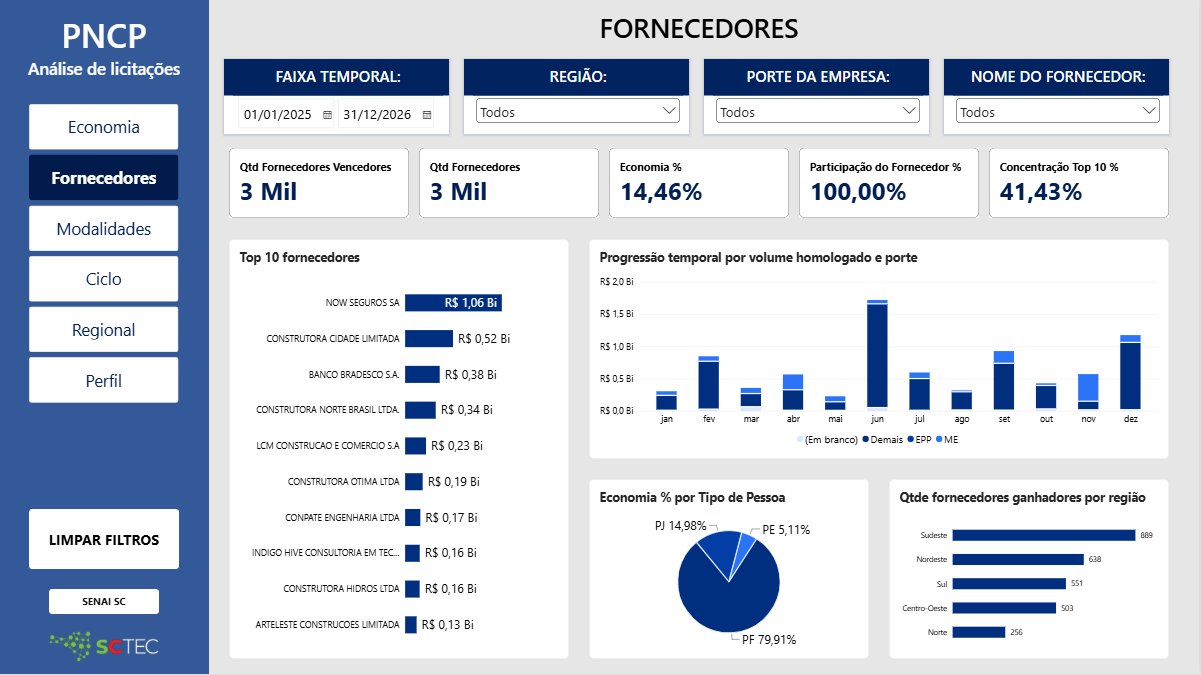

Layout of this report page (visuals, bound fields, positions):
{"tool":"powerbi","page":{"name":"Fornecedores","canvas":[1920,1080],"ordinal":1},"visuals":[{"type":"textbox","box":[0,-8,336,1088],"z":0},{"type":"image","box":[80,1008,176,56],"z":1000},{"type":"textbox","box":[368,16,1504,64],"z":2000},{"type":"slicer","title":"REGIÃO:","fields":{"Values":["dim_localidade.regiao"]},"box":[744,96,360,120],"z":3000},{"type":"slicer","title":"PORTE DA EMPRESA:","fields":{"Values":["dim_fornecedor.porte"]},"box":[1128,96,360,120],"z":4000},{"type":"cardVisual","fields":{"Data":["_medidas.Participação do Fornecedor %"]},"box":[1280,237,288,112],"z":5000},{"type":"cardVisual","fields":{"Data":["_medidas.Qtd Fornecedores Vencedores"]},"box":[368,237,288,112],"z":6000},{"type":"cardVisual","fields":{"Data":["_medidas.Concentração Top 10 %"]},"box":[1584,237,288,112],"z":7000},{"type":"columnChart","title":"Progressão temporal por volume homologado e porte","fields":{"Category":["dCalendario.NomeMes"],"Series":["dim_fornecedor.porte"],"Y":["_medidas.Volume Homologado"]},"box":[944,384,928,352],"z":8000},{"type":"barChart","title":"Top 10 fornecedores","fields":{"Category":["dim_fornecedor.nome_fornecedor"],"Y":["_medidas.Volume Homologado"]},"box":[368,384,544,672],"z":9000},{"type":"pieChart","title":"Economia % por Tipo de Pessoa","fields":{"Category":["dim_fornecedor.tipo_pessoa"],"Y":["_medidas.Economia %"]},"box":[944,768,448,288],"z":10000},{"type":"cardVisual","fields":{"Data":["_medidas.Qtd Fornecedores"]},"box":[672,237,288,112],"z":11000},{"type":"slicer","title":"NOME DO FORNECEDOR:","fields":{"Values":["dim_fornecedor.nome_fornecedor"]},"box":[1512,96,360,120],"z":12000},{"type":"cardVisual","fields":{"Data":["_medidas.Economia %"]},"box":[976,237,288,112],"z":13000},{"type":"slicer","title":"FAIXA TEMPORAL:","fields":{"Values":["dCalendario.Date"]},"box":[360,96,360,120],"z":14000},{"type":"clusteredBarChart","title":"Qtde fornecedores ganhadores por região","fields":{"Category":["dim_localidade.regiao"],"Y":["_medidas.Qtd Fornecedores Vencedores"]},"box":[1424,768,448,288],"z":15000},{"type":"pageNavigator","box":[48,168,240,480],"z":16000},{"type":"actionButton","box":[48,816,240,96],"z":17000},{"type":"actionButton","box":[80,944,176,40],"z":18000}]}

Visuals, with their boxes in screenshot pixels (x1, y1, x2, y2), scaled from the page's 1920x1080 canvas onto the 1201x675 screenshot:
textbox: pyautogui.locateOnScreen(0, 0, 210, 674)
image: pyautogui.locateOnScreen(50, 630, 160, 665)
textbox: pyautogui.locateOnScreen(230, 10, 1171, 50)
"REGIÃO:" slicer: pyautogui.locateOnScreen(465, 60, 691, 135)
"PORTE DA EMPRESA:" slicer: pyautogui.locateOnScreen(706, 60, 931, 135)
cardVisual - _medidas.Participação do Fornecedor %: pyautogui.locateOnScreen(801, 148, 981, 218)
cardVisual - _medidas.Qtd Fornecedores Vencedores: pyautogui.locateOnScreen(230, 148, 410, 218)
cardVisual - _medidas.Concentração Top 10 %: pyautogui.locateOnScreen(991, 148, 1171, 218)
"Progressão temporal por volume homologado e porte" columnChart: pyautogui.locateOnScreen(590, 240, 1171, 460)
"Top 10 fornecedores" barChart: pyautogui.locateOnScreen(230, 240, 570, 660)
"Economia % por Tipo de Pessoa" pieChart: pyautogui.locateOnScreen(590, 480, 871, 660)
cardVisual - _medidas.Qtd Fornecedores: pyautogui.locateOnScreen(420, 148, 600, 218)
"NOME DO FORNECEDOR:" slicer: pyautogui.locateOnScreen(946, 60, 1171, 135)
cardVisual - _medidas.Economia %: pyautogui.locateOnScreen(611, 148, 791, 218)
"FAIXA TEMPORAL:" slicer: pyautogui.locateOnScreen(225, 60, 450, 135)
"Qtde fornecedores ganhadores por região" clusteredBarChart: pyautogui.locateOnScreen(891, 480, 1171, 660)
pageNavigator: pyautogui.locateOnScreen(30, 105, 180, 405)
actionButton: pyautogui.locateOnScreen(30, 510, 180, 570)
actionButton: pyautogui.locateOnScreen(50, 590, 160, 615)
